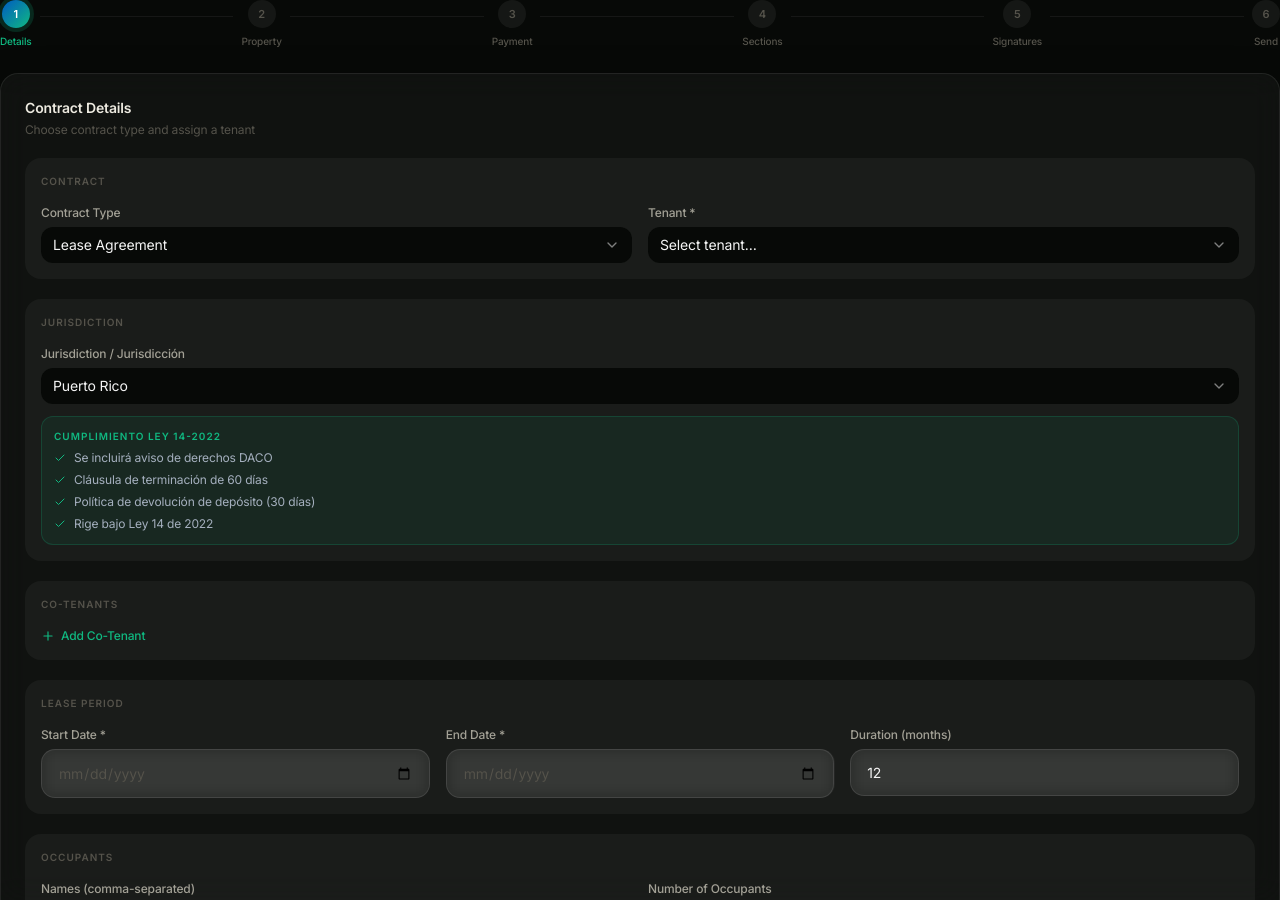
it: ContractBuilder step navigation › last step shows Send Contract submit button
The image size is (1280, 900).
Click the button "6 Send": click(1266, 24) [1252, 0, 1279, 49]
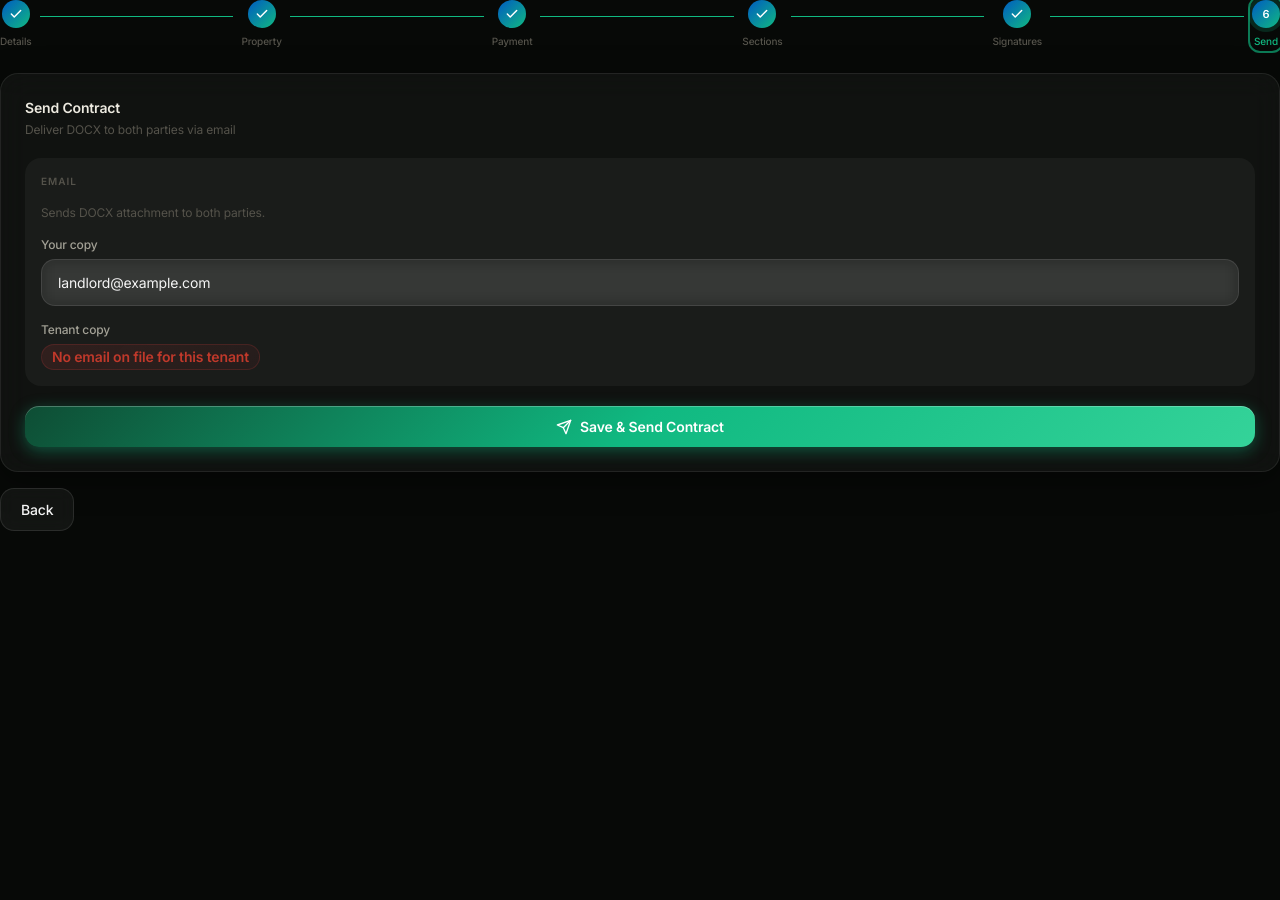
Now the button "Save & Send Contract" is shown, box [25, 406, 1255, 447]
